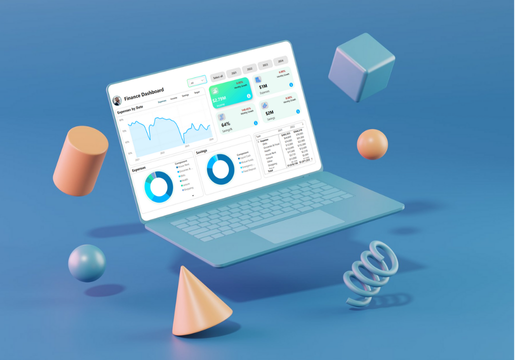

The page's visual inventory and layout, read from the dashboard file:
{"tool":"powerbi","page":{"name":"Page 1","canvas":[1280,720],"ordinal":0},"visuals":[{"type":"donutChart","title":"Savings","fields":{"Y":["Dataset.Savings"],"Category":["Dataset.Component"]},"box":[536.2,437.5,360,252.5],"z":0},{"type":"card","fields":{"Values":["Dataset.Expenses"]},"box":[993.8,167.5,113.8,88.8],"z":1000},{"type":"areaChart","fields":{"Y":["Dataset.Line_Chart_Measures"],"Category":["Dataset.Date"]},"box":[146.4,120,547.3,307.3],"z":2000},{"type":"card","fields":{"Values":["Dataset.Savings"]},"box":[993.8,326.2,108.8,71.2],"z":3000},{"type":"card","fields":{"Values":["Dataset.Savings%"]},"box":[711.2,317.5,107.5,80],"z":4000},{"type":"advancedSlicerVisual","fields":{"Values":["Dataset.Year"]},"box":[753.8,31.2,468.8,58.8],"z":5000},{"type":"donutChart","title":"Expenses","fields":{"Category":["Dataset.Component"],"Y":["Dataset.Expenses"]},"box":[145,437.5,382.5,252.5],"z":6000},{"type":"pivotTable","fields":{"Values":["Dataset.Total_Values"],"Rows":["Dataset.Type","Dataset.Component"],"Columns":["Dataset.Year"]},"box":[913.8,437.5,343.8,252.5],"z":7000},{"type":"card","fields":{"Values":["Dataset.Income"]},"box":[716.4,180.9,97.3,74.5],"z":8000},{"type":"textbox","box":[210.9,55.5,300,46.4],"z":9000},{"type":"slicer","fields":{"Values":["Selected_Date.Month-yr"]},"box":[595.5,55.5,128.2,46.4],"z":10000},{"type":"advancedSlicerVisual","fields":{"Values":["Line_Selection_Table.Type"]},"box":[390.9,122.7,290,37.3],"z":11000},{"type":"card","fields":{"Values":["Dataset.Ex_ws_Sav"]},"box":[573.3,155,150,81.7],"z":12000},{"type":"card","fields":{"Values":["Dataset.Income_Monthly_Gr"]},"box":[882.9,135,61.8,26.4],"z":13000,"group":"g1"},{"type":"card","fields":{"Values":["Dataset.Savings_Monthly_Gr"]},"box":[1161.1,135.5,61.8,26.4],"z":13000,"group":"g3"},{"type":"card","fields":{"Values":["Dataset.Expenses_Monthly_Gr"]},"box":[1153.8,283.9,74.6,23.8],"z":13000,"group":"g4"},{"type":"card","fields":{"Values":["Dataset.Ex_ws_Sav"]},"box":[859.5,286.1,105,28.8],"z":13000,"group":"g2"},{"type":"group","id":"g1","title":"Group 1","box":[861.8,135,103.6,45.9],"z":14000},{"type":"group","id":"g2","title":"Group 1","box":[859.5,286.1,105.9,41.7],"z":15000},{"type":"textbox","box":[861.8,153.6,103.6,27.3],"z":15001,"group":"g1"},{"type":"textbox","box":[1140,154.1,103.6,27.3],"z":15001,"group":"g3"},{"type":"textbox","box":[861.8,300.5,103.6,27.3],"z":15001,"group":"g2"},{"type":"textbox","box":[1140,300.5,103.6,27.3],"z":15001,"group":"g4"},{"type":"group","id":"g3","title":"Group 1","box":[1140,135.5,103.6,45.5],"z":16000},{"type":"group","id":"g4","title":"Group 1","box":[1140,283.9,103.6,43.8],"z":17000}]}

Visuals, with their boxes on the page's 1280x720 design canvas (x1, y1, x2, y2). These are canvas units, not pixel positions in the 515x360 screenshot, which may show the page scaled, cropped or inside an application window:
"Savings" donutChart: l=536, t=438, r=896, b=690
card - Dataset.Expenses: l=994, t=168, r=1108, b=256
areaChart - Dataset.Line_Chart_Measures x Dataset.Date: l=146, t=120, r=694, b=427
card - Dataset.Savings: l=994, t=326, r=1103, b=397
card - Dataset.Savings%: l=711, t=318, r=819, b=398
advancedSlicerVisual - Dataset.Year: l=754, t=31, r=1223, b=90
"Expenses" donutChart: l=145, t=438, r=528, b=690
pivotTable - Dataset.Total_Values x Dataset.Type: l=914, t=438, r=1258, b=690
card - Dataset.Income: l=716, t=181, r=814, b=255
textbox: l=211, t=56, r=511, b=102
slicer - Selected_Date.Month-yr: l=596, t=56, r=724, b=102
advancedSlicerVisual - Line_Selection_Table.Type: l=391, t=123, r=681, b=160
card - Dataset.Ex_ws_Sav: l=573, t=155, r=723, b=237
card - Dataset.Income_Monthly_Gr: l=883, t=135, r=945, b=161
card - Dataset.Savings_Monthly_Gr: l=1161, t=136, r=1223, b=162
card - Dataset.Expenses_Monthly_Gr: l=1154, t=284, r=1228, b=308
card - Dataset.Ex_ws_Sav: l=860, t=286, r=964, b=315
"Group 1" group: l=862, t=135, r=965, b=181
"Group 1" group: l=860, t=286, r=965, b=328
textbox: l=862, t=154, r=965, b=181
textbox: l=1140, t=154, r=1244, b=181
textbox: l=862, t=300, r=965, b=328
textbox: l=1140, t=300, r=1244, b=328
"Group 1" group: l=1140, t=136, r=1244, b=181
"Group 1" group: l=1140, t=284, r=1244, b=328
